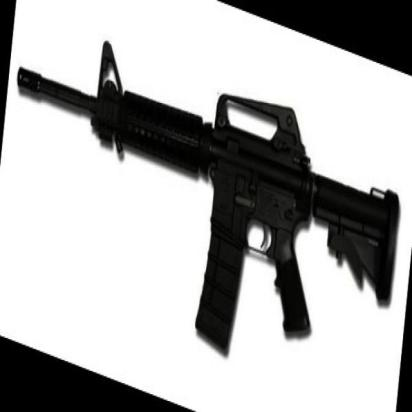Gun: (14, 37, 399, 360)
